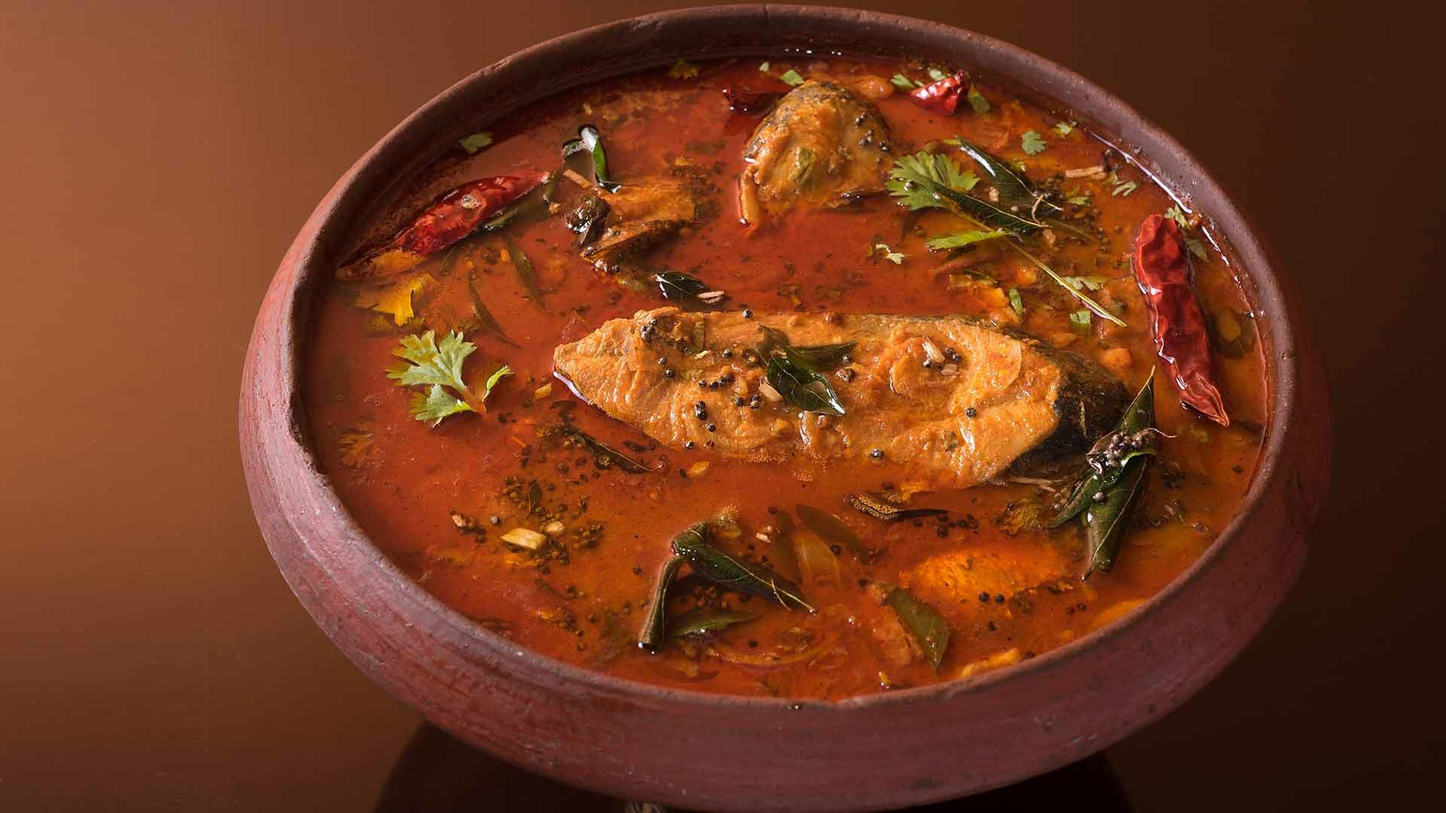FishCurry: (300, 41, 1274, 698)
